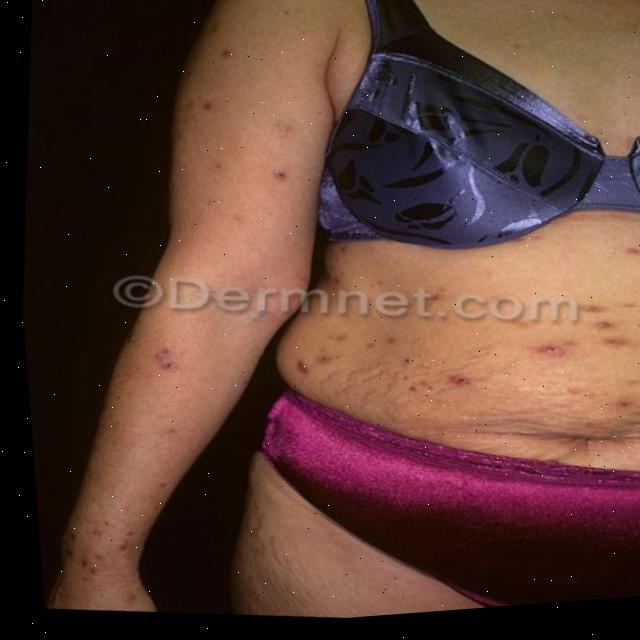Eczema: (333, 237, 640, 462), (167, 6, 315, 208), (70, 524, 127, 582), (158, 346, 168, 370)
